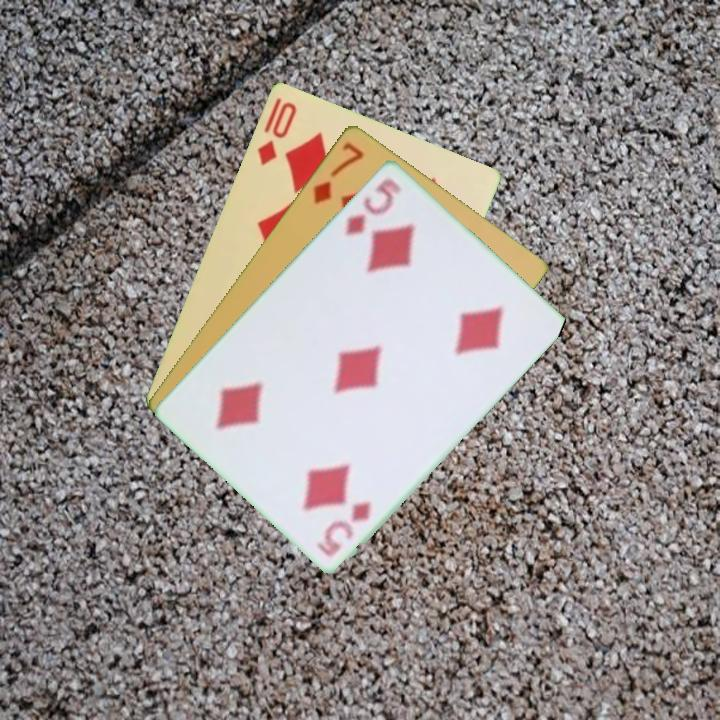10d: (253, 97, 300, 168)
5d: (341, 174, 404, 238), (320, 496, 374, 551)
7d: (309, 138, 367, 207)
